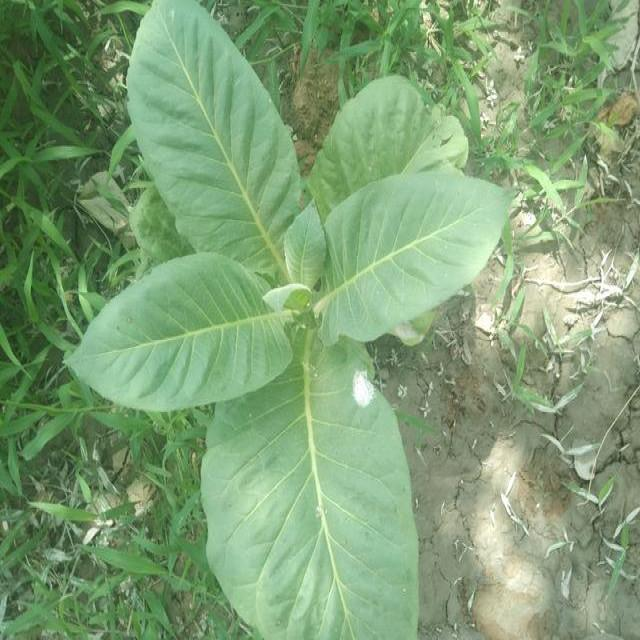crop: (84, 4, 506, 640)
